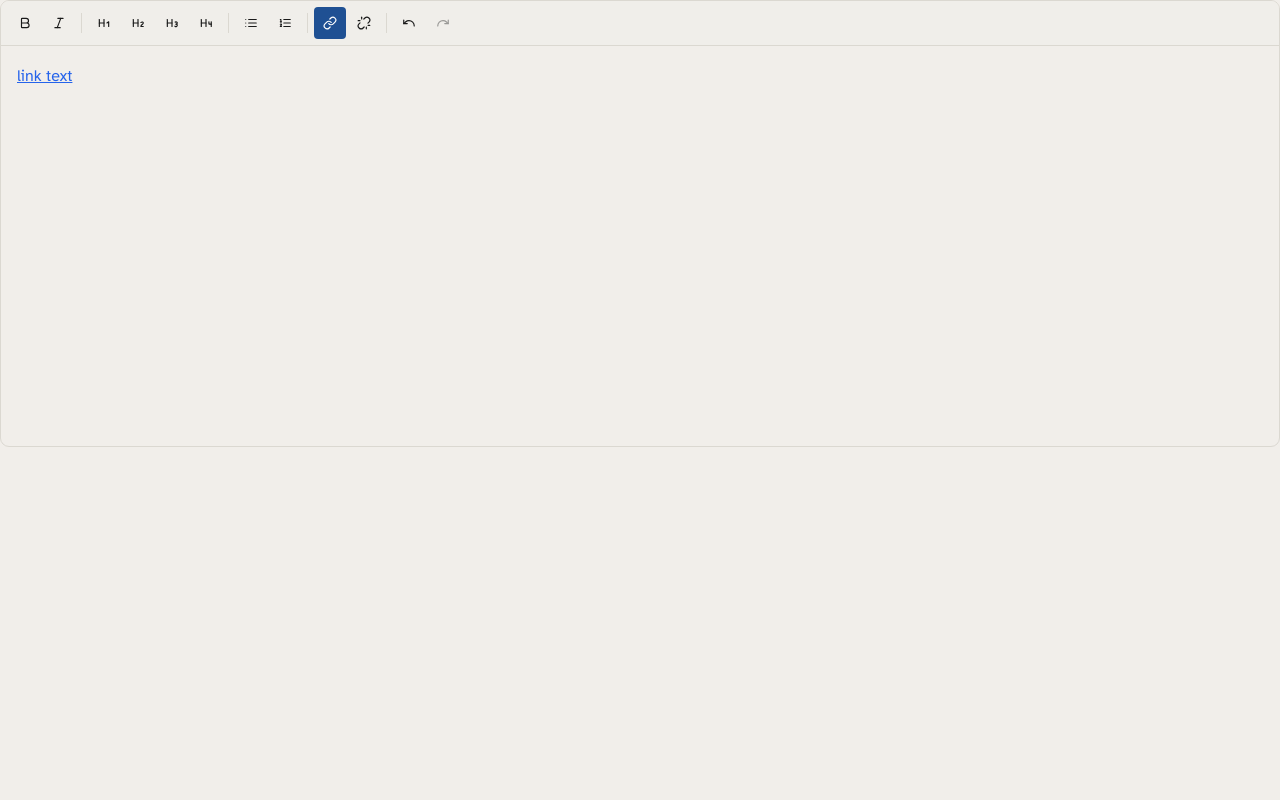
Scenario: RichTextEditor — link popover Remove link button › Remove link button (rte-link-remove) is present in popover when cursor is on an active link
Check: the element with test id "rich-text-editor" is shown, box [0,0,1279,447]
Click the button with test id "rte-toolbar-add-link".
click(330, 23)  # box [314,7,346,39]
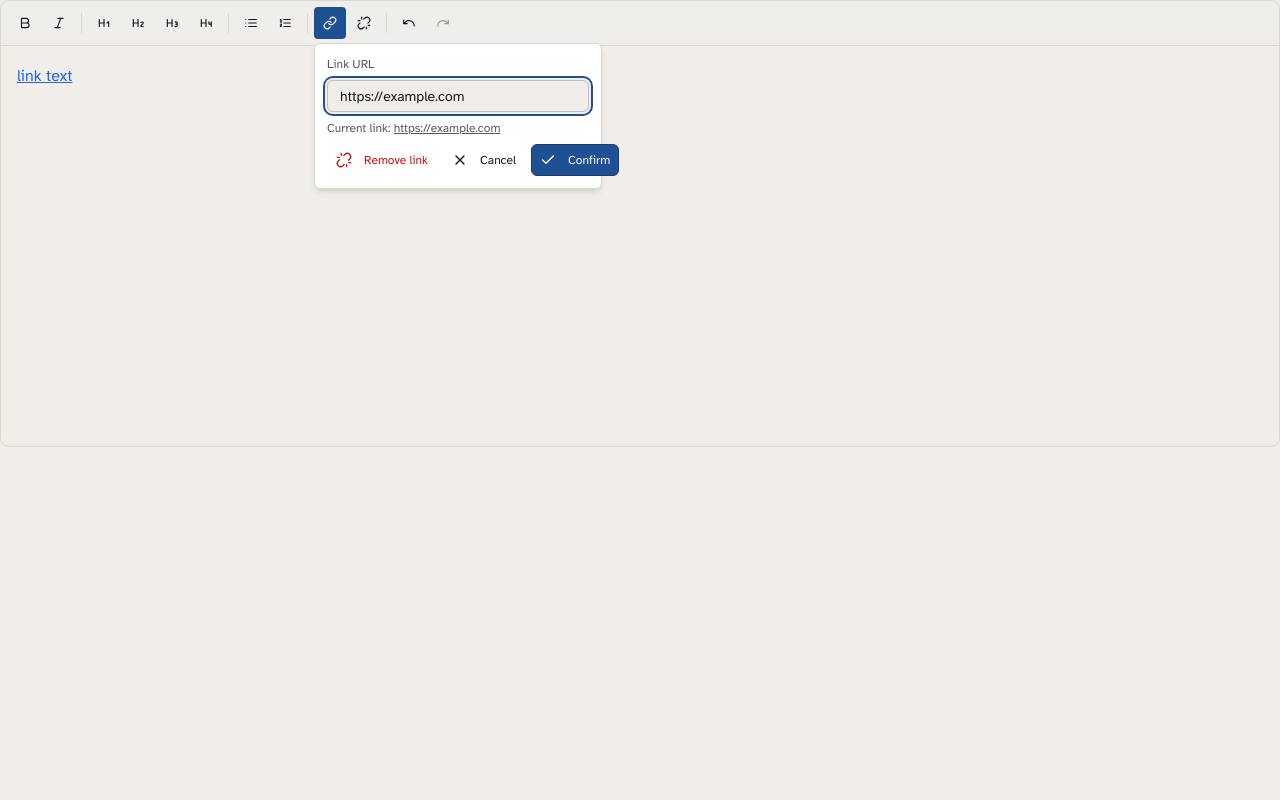
Check: the button with test id "rte-link-remove" is shown, box [327,144,437,176]
